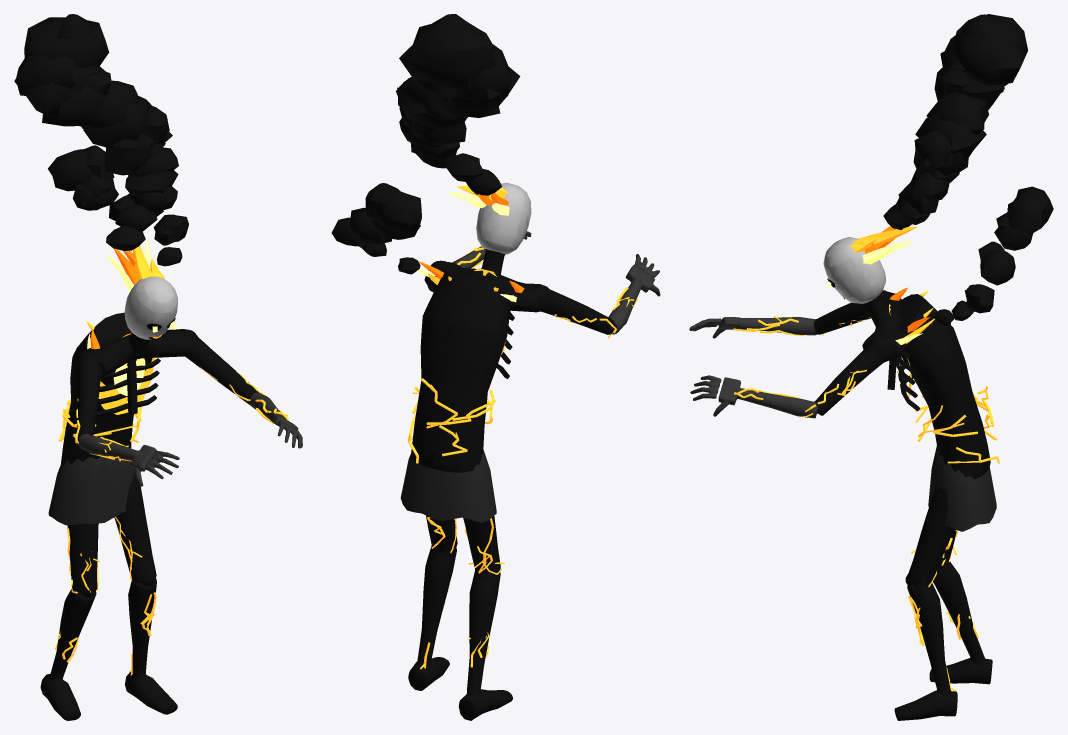
File: SM_Char_zhdan4.fbx
The picture shows the model from 3 angles, left to right: view 1: azimuth 30°, elevation 25°; view 2: azimuth 150°, elevation 25°; view 3: azimuth 270°, elevation 25°; orthographic projection. The views are drawn at different scales.
Parts seen in each view (by area): view 1: SM_Char_zhdan4, SM_Char_zhdan4_Glow; view 2: SM_Char_zhdan4, SM_Char_zhdan4_Glow; view 3: SM_Char_zhdan4, SM_Char_zhdan4_Glow.
Boxes of the visible parts, x1,y1,x2,y2 form: SM_Char_zhdan4: (14, 14, 302, 720); SM_Char_zhdan4_Glow: (55, 238, 288, 675); SM_Char_zhdan4: (331, 14, 660, 720); SM_Char_zhdan4_Glow: (408, 185, 637, 669); SM_Char_zhdan4: (689, 14, 1053, 720); SM_Char_zhdan4_Glow: (733, 226, 999, 691).
Size of the model in its own units: 0.7645 by 2.56 by 1.25.
